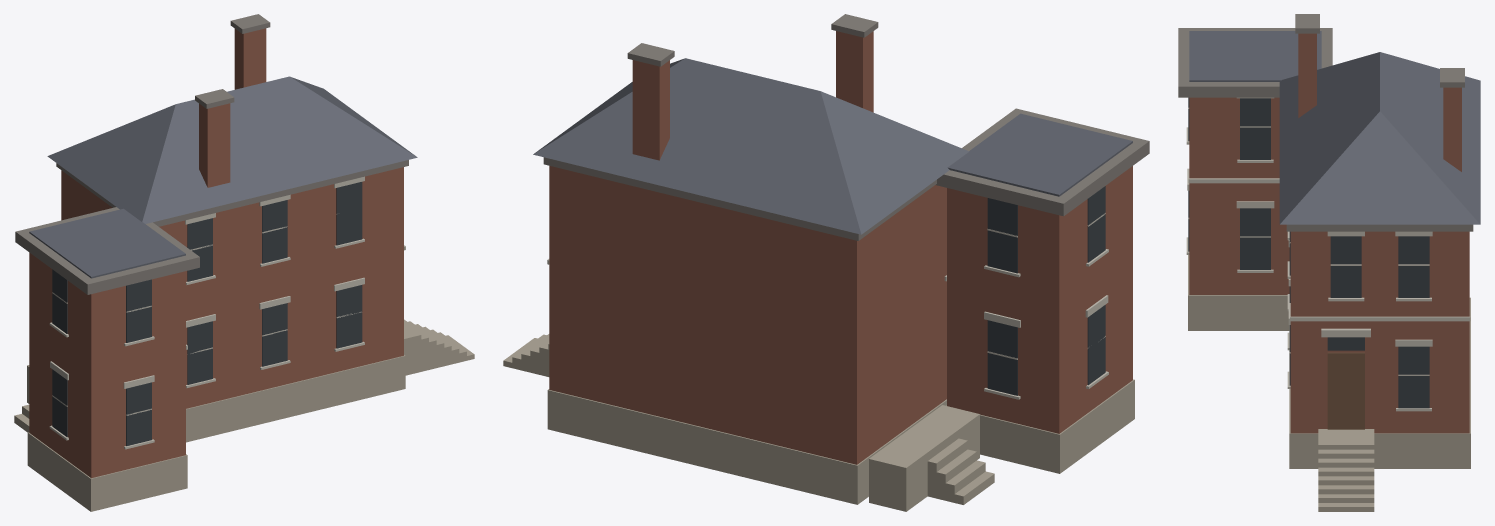
File: house_1901_indiana__draft_1904.glb
3 views of the same model, side by side, from view 1: azimuth 30°, elevation 25°; view 2: azimuth 150°, elevation 25°; view 3: azimuth 270°, elevation 25° (orthographic). The views are drawn at different scales.
Parts seen in each view (by area): view 1: house_1901_indiana__draft_1904; view 2: house_1901_indiana__draft_1904; view 3: house_1901_indiana__draft_1904.
Part boxes in pixels (x1,y1,x2,y2): house_1901_indiana__draft_1904: [14, 14, 474, 511]; house_1901_indiana__draft_1904: [503, 14, 1149, 511]; house_1901_indiana__draft_1904: [1178, 14, 1480, 511].
Size of the model in its own units: 17.9 by 12.5 by 9.7.
